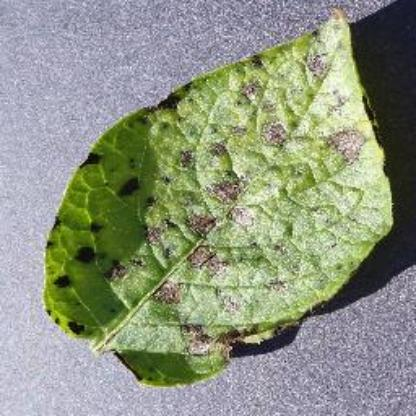Early-Blight: (41, 4, 397, 388)
